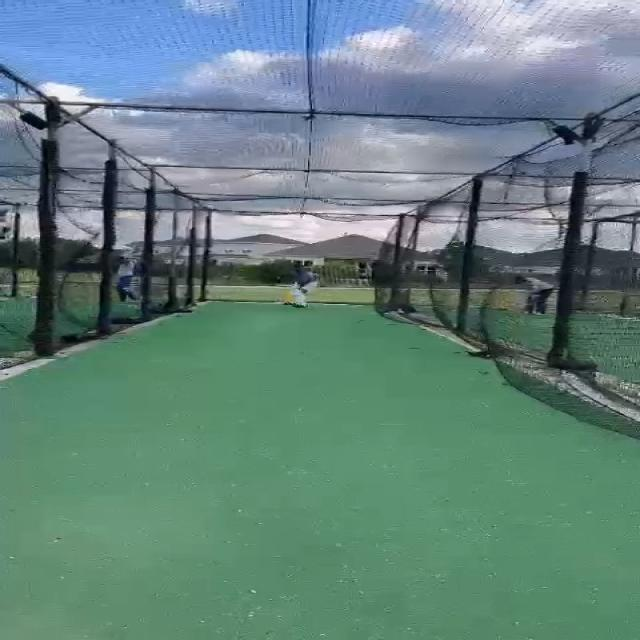batsman: (276, 263, 321, 309)
